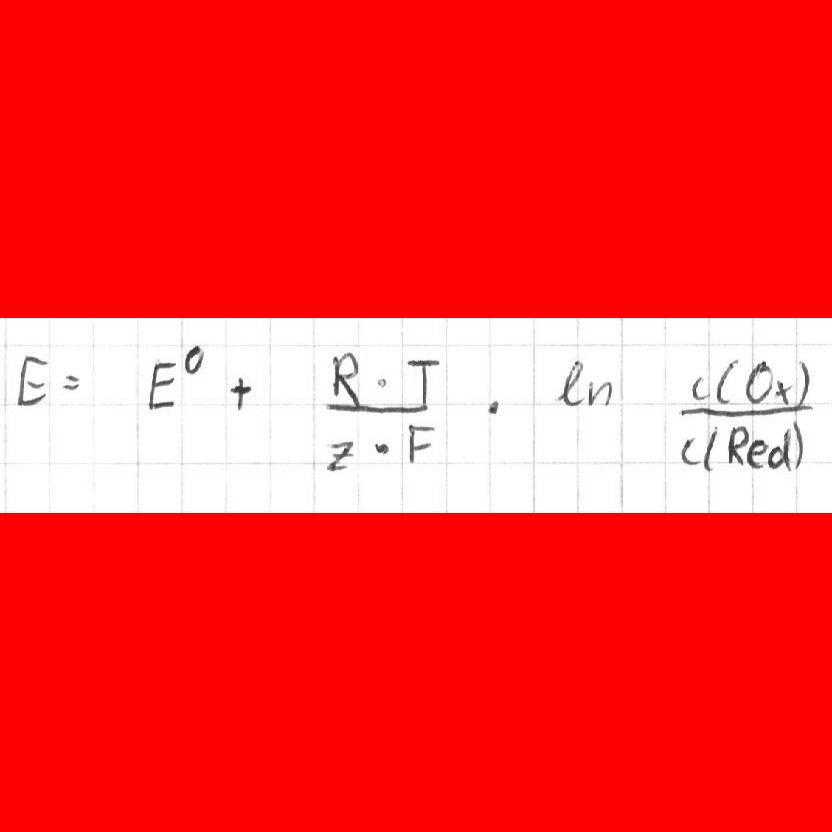Char: (674, 401, 818, 419), (326, 346, 363, 409), (317, 399, 433, 417), (15, 351, 51, 408), (404, 355, 440, 409), (145, 358, 179, 414), (401, 417, 437, 466), (555, 357, 585, 406), (745, 359, 773, 405), (323, 436, 356, 473), (767, 425, 791, 472), (715, 357, 738, 406), (229, 372, 253, 413), (793, 358, 810, 414), (726, 423, 748, 465), (585, 377, 613, 409), (686, 373, 711, 407), (702, 426, 719, 474), (679, 433, 701, 469), (745, 437, 768, 469), (183, 342, 205, 375), (773, 376, 792, 405), (59, 371, 83, 393), (792, 420, 803, 468), (485, 395, 503, 421), (374, 370, 390, 392), (372, 439, 391, 457)
